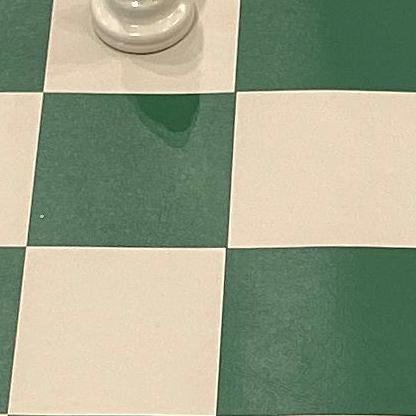white-bishop: (85, 0, 202, 60)
